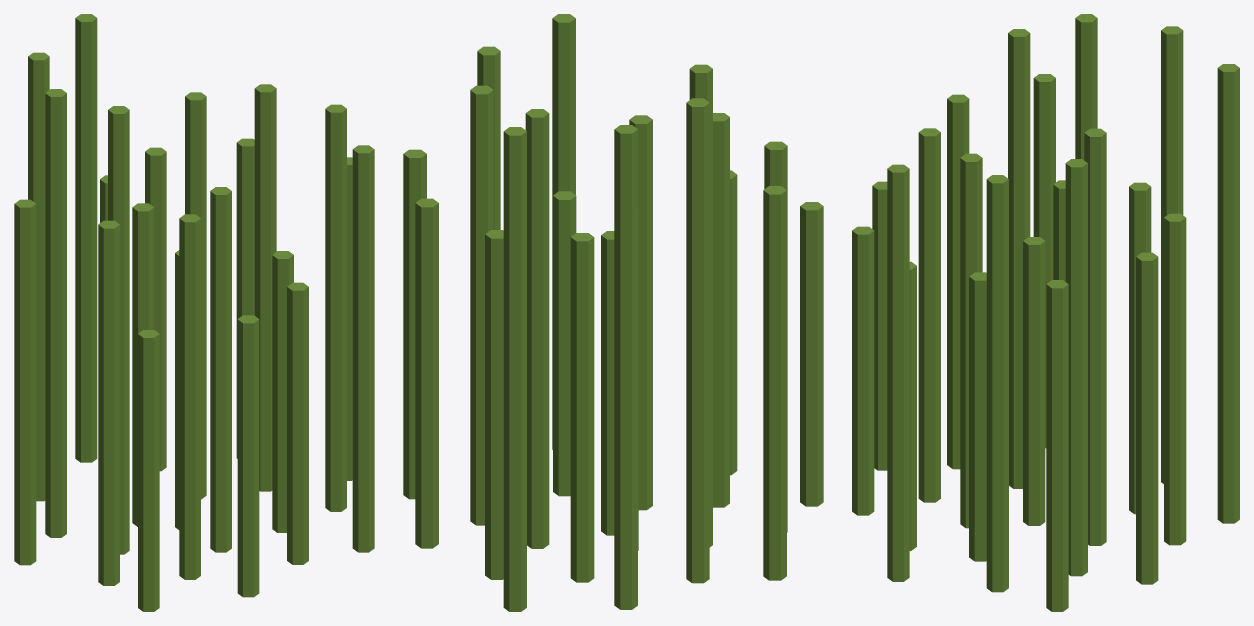
Rendered from SM_MistForestReedCluster_A.glb.
3 views of the same model, side by side, from view 1: azimuth 30°, elevation 25°; view 2: azimuth 150°, elevation 25°; view 3: azimuth 270°, elevation 25° (orthographic). The views are drawn at different scales.
Parts seen in each view (by area): view 1: SM_MistForestReedCluster_A; view 2: SM_MistForestReedCluster_A; view 3: SM_MistForestReedCluster_A.
Boxes of the visible parts, bbox=[...] form: SM_MistForestReedCluster_A: bbox=[14, 14, 374, 611]; SM_MistForestReedCluster_A: bbox=[403, 14, 823, 611]; SM_MistForestReedCluster_A: bbox=[852, 14, 1239, 611].
Bounding box in the file's own units: 1.64 × 2.01 × 1.56.
